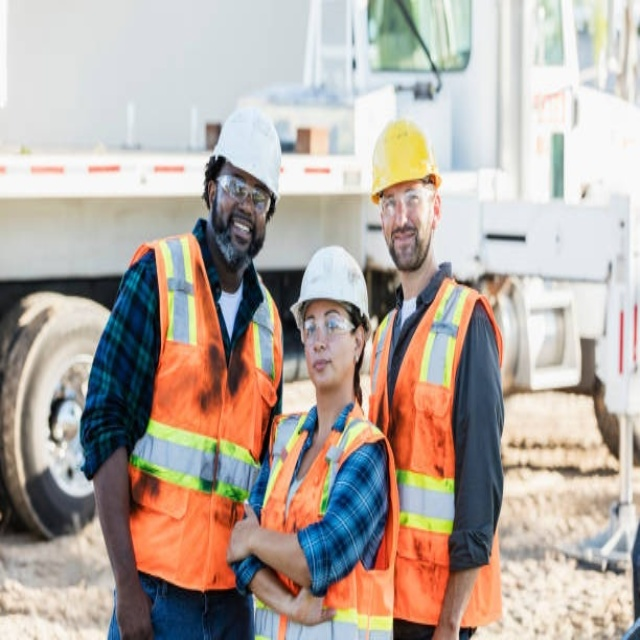Gafas: (216, 175, 272, 213), (379, 187, 434, 219), (301, 315, 356, 343)
Sin_guantes: (224, 497, 262, 568), (282, 582, 334, 627)
Sin_mascara: (231, 216, 254, 238), (392, 232, 416, 245), (312, 359, 331, 372)
